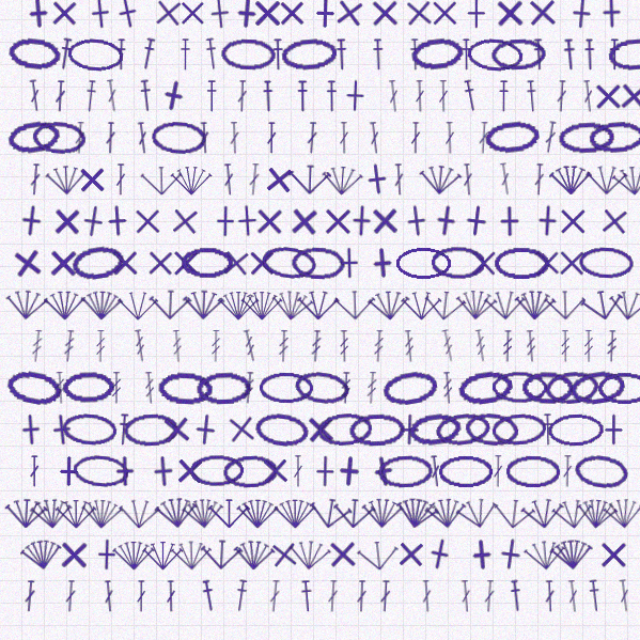chain: (5, 367, 60, 406), (357, 368, 412, 406), (6, 134, 60, 171), (66, 251, 120, 288), (428, 368, 482, 405), (533, 368, 587, 405), (244, 252, 299, 288), (275, 369, 329, 405), (238, 408, 292, 444), (407, 408, 461, 444), (382, 408, 435, 444), (537, 447, 590, 483), (453, 135, 507, 170), (63, 58, 118, 92), (7, 57, 60, 92), (384, 57, 437, 92), (510, 369, 563, 404), (263, 58, 317, 92), (437, 58, 491, 92), (58, 409, 112, 443), (460, 409, 514, 443), (68, 448, 122, 482), (435, 408, 487, 443), (569, 58, 622, 92), (551, 136, 605, 169), (297, 409, 351, 442), (30, 136, 83, 169), (513, 410, 567, 442), (142, 136, 194, 169), (523, 137, 576, 169), (542, 254, 595, 286), (327, 410, 380, 442), (209, 449, 262, 481), (207, 59, 259, 91), (460, 59, 512, 91), (273, 254, 325, 286), (148, 371, 200, 403), (184, 371, 236, 403), (116, 410, 168, 442), (354, 449, 406, 481), (461, 371, 513, 402), (178, 449, 230, 480), (404, 254, 455, 285), (371, 255, 423, 285), (463, 255, 515, 285), (243, 372, 295, 402), (59, 371, 109, 402), (489, 371, 539, 402), (560, 372, 611, 402), (411, 450, 462, 480), (474, 450, 525, 480), (170, 255, 220, 285)
double: (99, 98, 113, 129), (509, 137, 523, 168), (467, 176, 481, 207), (27, 98, 40, 129), (579, 566, 592, 597), (363, 99, 376, 129), (545, 99, 558, 129), (128, 138, 141, 168), (345, 138, 358, 168), (402, 450, 415, 480), (531, 567, 544, 597), (287, 138, 299, 168), (28, 177, 40, 207), (209, 177, 221, 207), (233, 177, 245, 207), (433, 177, 445, 207), (23, 567, 35, 597), (61, 567, 73, 597), (97, 567, 109, 597), (252, 567, 264, 597), (431, 567, 443, 597), (453, 567, 465, 597), (52, 99, 63, 129), (222, 99, 233, 129), (521, 99, 532, 129), (70, 138, 81, 168), (99, 138, 110, 168), (187, 138, 198, 168), (215, 138, 226, 168), (448, 138, 459, 168), (369, 177, 380, 207), (500, 177, 511, 207), (307, 567, 318, 597), (334, 567, 345, 597), (356, 567, 367, 597), (395, 567, 406, 597), (510, 567, 521, 597), (389, 99, 399, 129), (411, 99, 421, 129), (250, 138, 260, 168), (318, 138, 328, 168), (385, 138, 395, 168), (417, 138, 427, 168), (109, 177, 119, 207), (28, 450, 38, 480), (275, 450, 285, 480), (462, 450, 472, 480), (527, 450, 537, 480), (128, 567, 138, 597), (156, 567, 166, 597)
fan: (425, 485, 470, 522), (543, 291, 587, 327), (288, 486, 332, 522), (369, 486, 413, 522), (19, 525, 61, 560), (572, 175, 615, 209), (253, 292, 296, 326), (396, 292, 439, 326), (461, 487, 504, 521), (569, 292, 611, 326), (488, 487, 530, 521), (516, 487, 558, 521), (539, 487, 581, 521), (334, 526, 376, 560), (392, 175, 434, 208), (5, 292, 47, 325), (426, 292, 468, 325), (145, 487, 187, 520), (170, 487, 212, 520), (270, 526, 312, 559), (490, 526, 532, 559), (515, 526, 557, 559), (398, 487, 439, 520), (564, 487, 605, 520), (344, 293, 386, 325), (28, 488, 70, 520), (301, 176, 342, 208), (76, 293, 117, 325), (5, 488, 46, 520), (76, 488, 117, 520), (111, 488, 152, 520), (312, 488, 353, 520), (482, 293, 522, 325), (219, 527, 259, 559), (140, 293, 181, 324), (171, 293, 212, 324), (453, 293, 494, 324), (188, 527, 229, 558), (43, 176, 83, 207), (271, 176, 311, 207), (549, 176, 589, 207), (313, 293, 353, 324), (510, 293, 550, 324), (339, 488, 379, 519), (160, 527, 200, 558), (132, 177, 172, 207), (160, 177, 200, 207), (515, 177, 555, 207), (110, 294, 150, 324), (204, 294, 244, 324), (226, 294, 266, 324), (279, 294, 319, 324), (52, 489, 92, 519), (222, 489, 262, 519), (257, 489, 297, 519), (106, 528, 146, 558), (42, 294, 81, 324), (376, 294, 415, 324), (196, 489, 235, 519), (134, 528, 173, 558)
half_double: (131, 59, 148, 90), (54, 59, 70, 90), (433, 98, 449, 129), (188, 566, 204, 597), (130, 98, 145, 129), (219, 566, 234, 597), (550, 566, 565, 597), (192, 59, 206, 90), (477, 566, 491, 597), (527, 60, 541, 90), (79, 99, 93, 129), (281, 567, 295, 597), (314, 60, 327, 90), (492, 99, 505, 129), (110, 411, 123, 441), (255, 60, 267, 90), (349, 60, 361, 90), (499, 60, 511, 90), (547, 60, 559, 90), (570, 60, 582, 90), (193, 99, 205, 129), (246, 99, 258, 129), (278, 99, 290, 129), (109, 60, 120, 90), (169, 60, 180, 90), (384, 60, 395, 90), (432, 60, 443, 90), (306, 99, 317, 129), (467, 99, 478, 129), (508, 411, 519, 441)
single: (103, 18, 138, 53), (146, 96, 181, 131), (395, 525, 430, 560), (311, 19, 345, 53), (71, 214, 105, 248), (343, 448, 377, 482), (10, 253, 43, 287), (337, 175, 370, 208), (14, 214, 47, 247), (374, 214, 407, 247), (402, 214, 435, 247), (430, 214, 463, 247), (462, 526, 495, 559), (211, 409, 243, 442), (79, 20, 111, 52), (377, 20, 409, 52), (529, 20, 561, 52), (578, 98, 610, 130), (246, 176, 278, 208), (158, 215, 190, 247), (560, 215, 592, 247), (206, 254, 238, 286), (14, 410, 46, 442), (43, 410, 75, 442), (150, 410, 182, 442), (177, 410, 209, 442), (138, 449, 170, 481), (312, 449, 344, 481), (251, 527, 283, 559), (21, 20, 52, 52), (143, 20, 174, 52), (191, 20, 222, 52), (216, 20, 247, 52), (270, 215, 301, 247), (343, 254, 374, 286), (436, 527, 467, 559), (493, 20, 524, 51), (558, 20, 589, 51), (318, 98, 349, 129), (95, 215, 126, 246), (217, 215, 248, 246), (324, 215, 355, 246), (498, 215, 529, 246), (163, 449, 194, 480), (243, 449, 274, 480), (306, 527, 337, 558), (370, 527, 401, 558), (346, 215, 376, 246), (286, 410, 316, 441), (46, 21, 76, 51), (166, 21, 196, 51), (236, 21, 266, 51), (259, 21, 289, 51), (290, 21, 320, 51), (346, 21, 376, 51), (402, 21, 432, 51), (463, 21, 493, 51), (555, 99, 585, 129), (72, 177, 102, 207), (124, 216, 154, 246), (197, 216, 227, 246), (238, 216, 268, 246), (302, 216, 332, 246), (463, 216, 493, 246), (522, 216, 552, 246), (45, 255, 75, 285), (103, 255, 133, 285), (136, 255, 166, 285), (160, 255, 190, 285), (231, 255, 261, 285), (313, 255, 343, 285), (498, 255, 528, 285), (521, 255, 551, 285), (369, 411, 399, 441), (560, 411, 590, 441), (50, 450, 80, 480), (103, 450, 133, 480), (290, 450, 320, 480), (55, 528, 85, 558), (86, 528, 116, 558), (560, 528, 590, 558), (432, 21, 461, 51), (49, 216, 78, 246), (439, 255, 468, 285)
treble: (227, 332, 243, 363), (413, 332, 428, 363), (125, 332, 139, 363), (444, 332, 458, 363), (29, 333, 42, 363), (59, 333, 72, 363), (161, 333, 173, 363), (291, 333, 303, 363), (378, 333, 390, 363), (492, 333, 504, 363), (135, 372, 147, 402), (228, 372, 240, 402), (343, 372, 355, 402), (414, 372, 426, 402), (261, 333, 272, 363), (350, 333, 361, 363), (568, 333, 579, 363), (52, 372, 63, 402), (319, 372, 330, 402), (90, 333, 100, 363), (198, 333, 208, 363), (318, 333, 328, 363), (471, 333, 481, 363), (525, 333, 535, 363), (547, 333, 557, 363), (105, 372, 115, 402)
